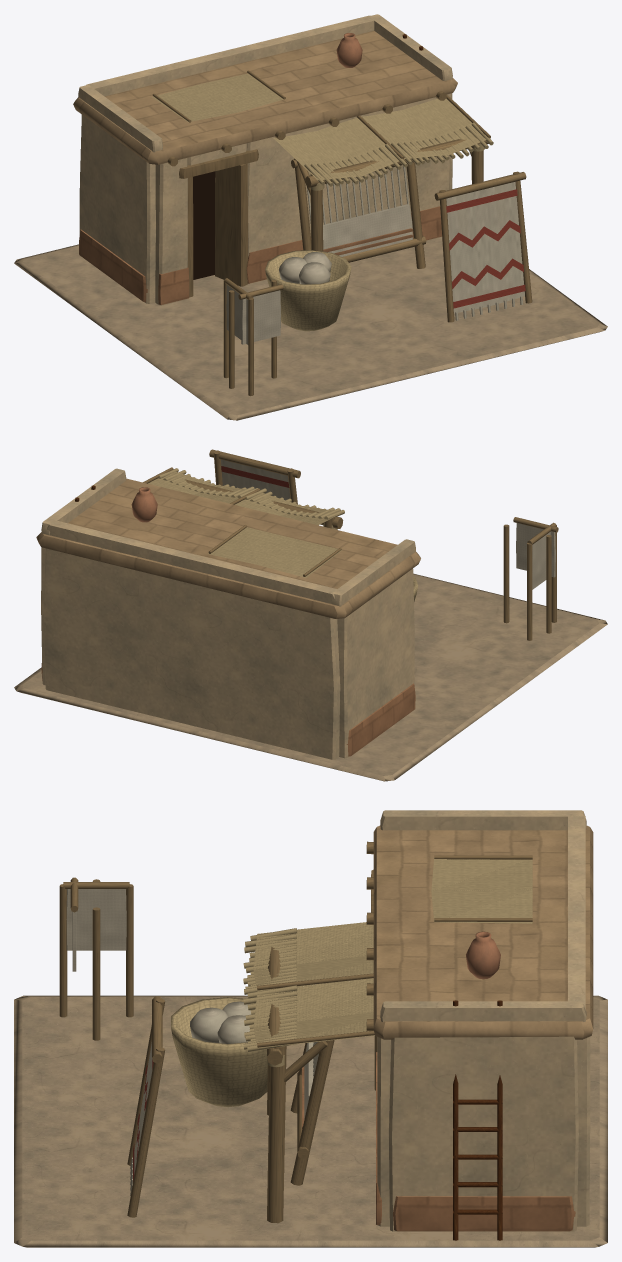
Rendered from weaver.glb.
The picture shows the model from 3 angles, top to bottom: view 1: azimuth 30°, elevation 25°; view 2: azimuth 150°, elevation 25°; view 3: azimuth 270°, elevation 25°; orthographic projection. The views are drawn at different scales.
Visible parts, largest first — view 1: original-weaver-alluvial-earth, original-weaver-warm-clay-plaster, original-weaver-game-raw-brick-facing, original-weaver-reed-mat, original-weaver-worn-timber, original-weaver-woven-linen, original-weaver-game-fired-brick-facing, original-weaver-game-door-shadow, original-weaver-courtyard-dyed-weft, original-weaver-fired-pottery; view 2: original-weaver-warm-clay-plaster, original-weaver-alluvial-earth, original-weaver-game-raw-brick-facing, original-weaver-reed-mat, original-weaver-worn-timber, original-weaver-woven-linen, original-weaver-game-fired-brick-facing, original-weaver-fired-pottery; view 3: original-weaver-alluvial-earth, original-weaver-warm-clay-plaster, original-weaver-game-raw-brick-facing, original-weaver-reed-mat, original-weaver-worn-timber, original-weaver-game-fired-brick-facing, original-weaver-woven-linen, roof-access-weaver, original-weaver-fired-pottery.
Boxes of the visible parts, x1,y1,x2,y2 form: original-weaver-alluvial-earth: [14, 237, 607, 420]; original-weaver-warm-clay-plaster: [78, 14, 452, 305]; original-weaver-game-raw-brick-facing: [73, 31, 457, 164]; original-weaver-reed-mat: [152, 73, 493, 331]; original-weaver-worn-timber: [152, 70, 532, 396]; original-weaver-woven-linen: [226, 166, 524, 344]; original-weaver-game-fired-brick-facing: [79, 206, 441, 304]; original-weaver-game-door-shadow: [193, 171, 215, 279]; original-weaver-courtyard-dyed-weft: [446, 189, 525, 308]; original-weaver-fired-pottery: [336, 33, 362, 67]; original-weaver-warm-clay-plaster: [41, 468, 415, 759]; original-weaver-alluvial-earth: [14, 573, 607, 781]; original-weaver-game-raw-brick-facing: [36, 478, 420, 618]; original-weaver-reed-mat: [148, 468, 418, 601]; original-weaver-worn-timber: [143, 449, 558, 640]; original-weaver-woven-linen: [221, 459, 555, 589]; original-weaver-game-fired-brick-facing: [41, 663, 415, 756]; original-weaver-fired-pottery: [131, 487, 157, 522]; original-weaver-alluvial-earth: [14, 995, 607, 1247]; original-weaver-warm-clay-plaster: [377, 810, 590, 1231]; original-weaver-game-raw-brick-facing: [373, 825, 593, 1039]; original-weaver-reed-mat: [171, 858, 532, 1107]; original-weaver-worn-timber: [59, 841, 532, 1223]; original-weaver-game-fired-brick-facing: [302, 1052, 575, 1231]; original-weaver-woven-linen: [66, 889, 318, 1195]; roof-access-weaver: [453, 1000, 502, 1240]; original-weaver-fired-pottery: [466, 931, 500, 979].
Size of the model in its own units: 5.37 by 2.56 by 5.37.
Materials: 11 (10 with a texture image).
